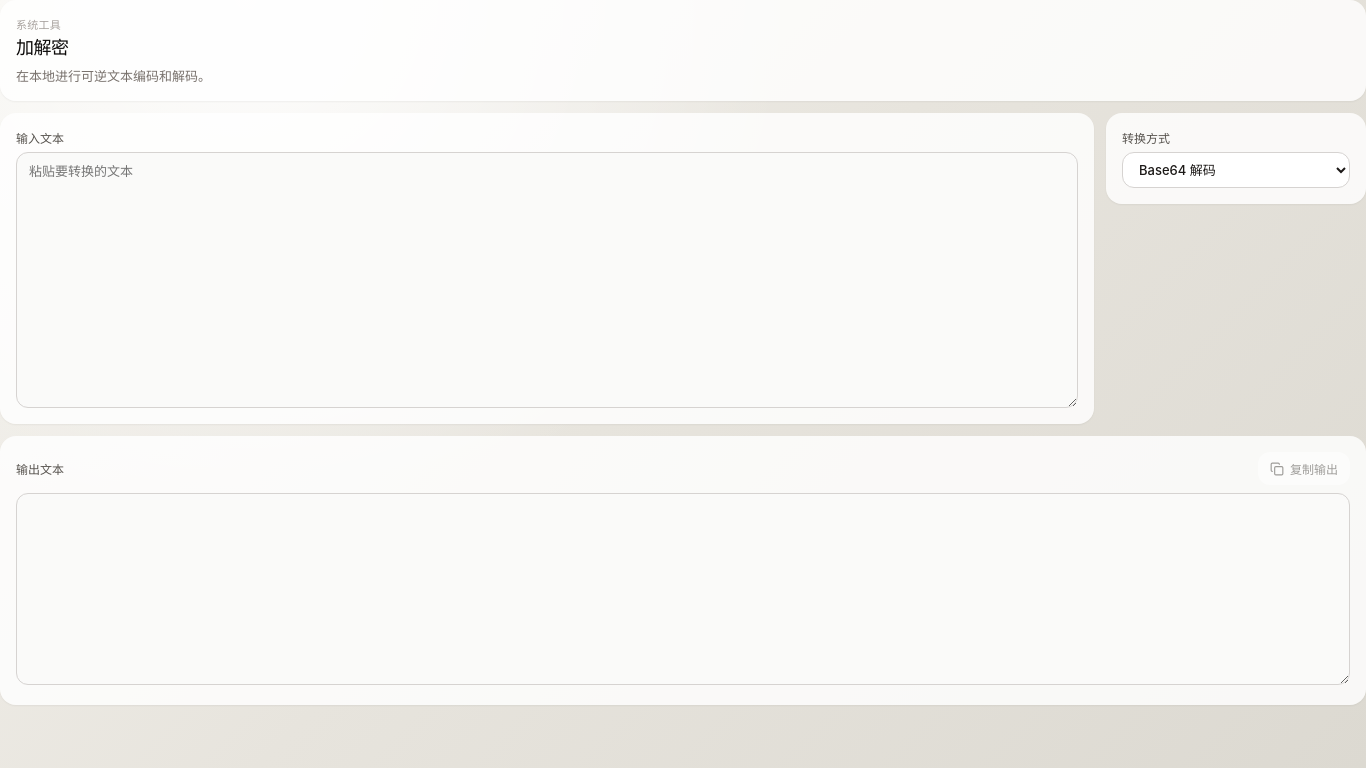
CryptoToolsScreen › decodes Base64 text by default
Type "aGVsbG8g5LiW55WM" into the text box labelled "输入文本" at x=547, y=280, box [16,152,1078,408]
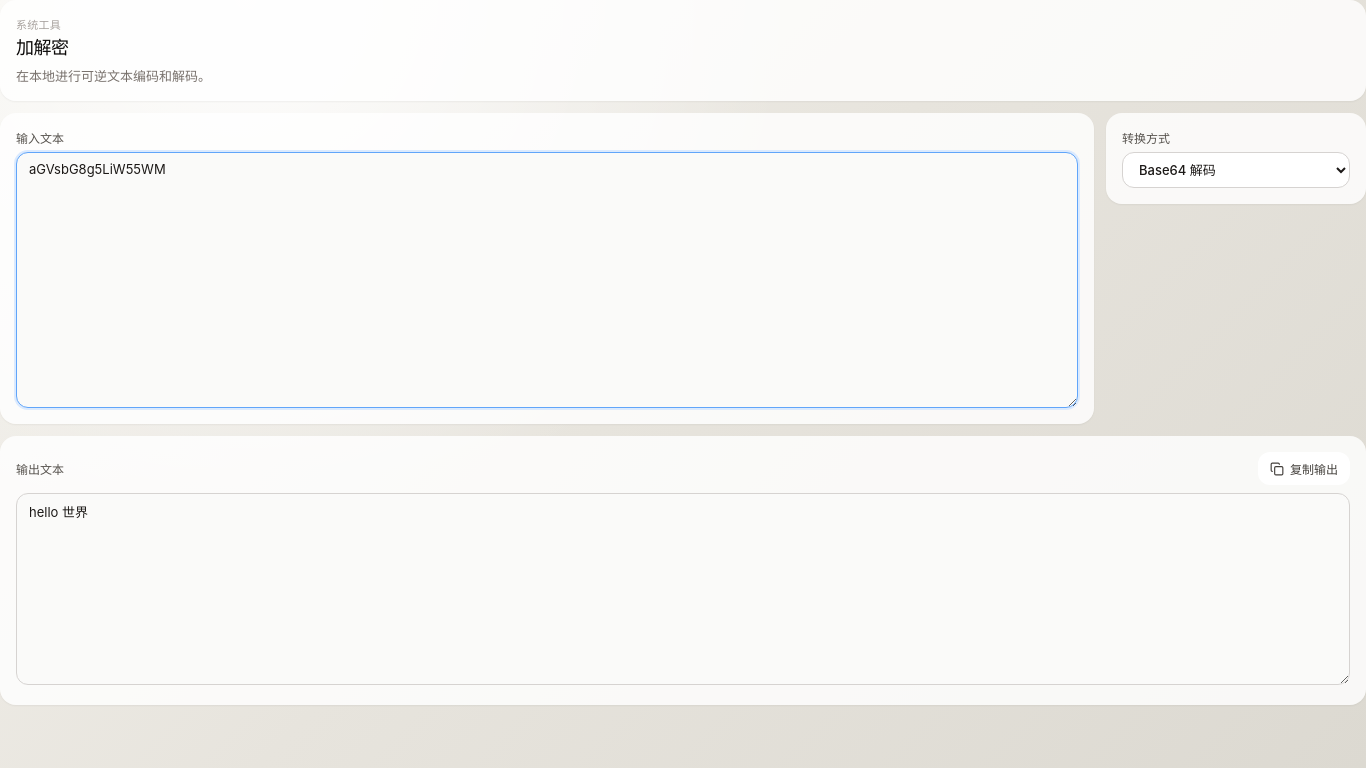
Expected: the text box labelled "输出文本" holds "hello 世界", [16,493,1350,685]
